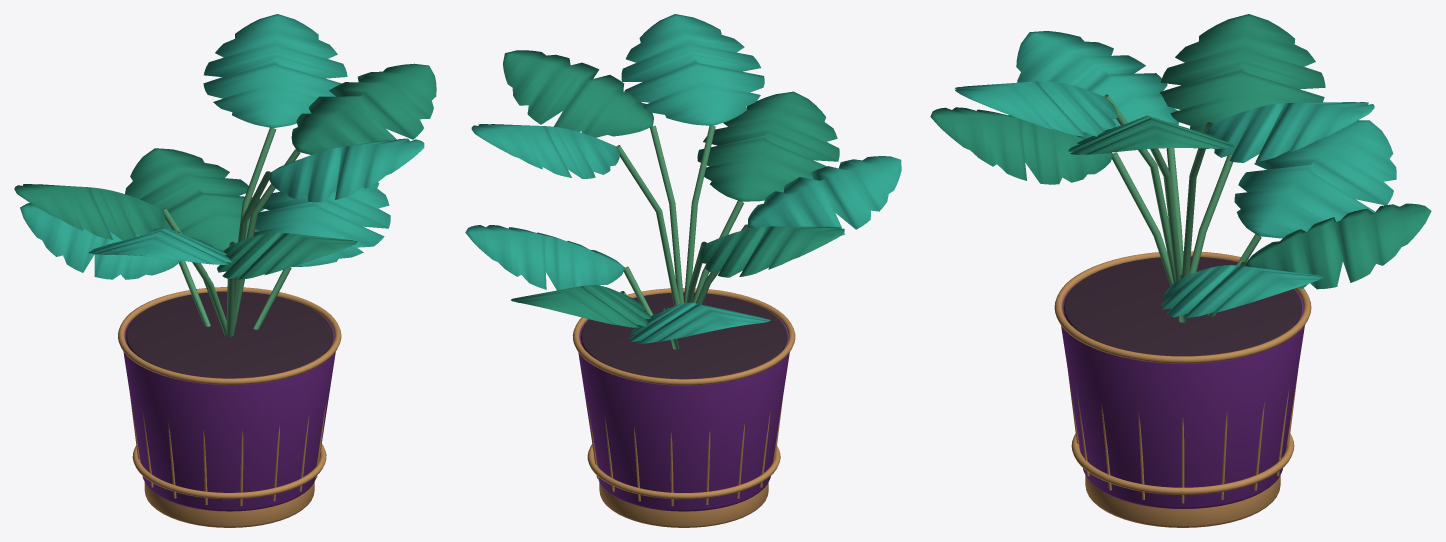
File: monstera.glb
3 views of the same model, side by side, from view 1: azimuth 30°, elevation 25°; view 2: azimuth 150°, elevation 25°; view 3: azimuth 270°, elevation 25° (orthographic). The views are drawn at different scales.
Visible parts, largest first — view 1: Fluted plum planter, Soil, Split monstera leaf.008, Split monstera leaf.005, Split monstera leaf.003, Split monstera leaf, Split monstera leaf.002, Split monstera leaf.001, Split monstera leaf.006, Split monstera leaf.007, Planter rim, Planter foot (+8 smaller); view 2: Fluted plum planter, Split monstera leaf.002, Split monstera leaf.007, Soil, Split monstera leaf.005, Split monstera leaf.004, Split monstera leaf, Split monstera leaf.008, Split monstera leaf.001, Split monstera leaf.003, Split monstera leaf.006, Planter foot (+5 smaller); view 3: Fluted plum planter, Soil, Split monstera leaf.006, Split monstera leaf.001, Split monstera leaf.003, Split monstera leaf.004, Split monstera leaf.007, Split monstera leaf.008, Split monstera leaf.002, Split monstera leaf, Planter foot, Planter rim (+8 smaller).
Part boxes in pixels (box(x1,y1,x2,y2)): Fluted plum planter: box(123, 315, 335, 511); Soil: box(126, 291, 333, 378); Split monstera leaf.008: box(203, 14, 347, 128); Split monstera leaf.005: box(291, 63, 436, 154); Split monstera leaf.003: box(125, 148, 264, 250); Split monstera leaf: box(250, 182, 390, 266); Split monstera leaf.002: box(268, 138, 424, 202); Split monstera leaf.001: box(14, 184, 164, 240); Split monstera leaf.006: box(20, 203, 181, 279); Split monstera leaf.007: box(217, 232, 357, 279); Planter rim: box(118, 287, 341, 384); Planter foot: box(144, 482, 314, 527); Fluted plum planter: box(578, 317, 789, 511); Split monstera leaf.002: box(621, 14, 764, 125); Split monstera leaf.007: box(697, 91, 839, 201); Soil: box(580, 292, 787, 379); Split monstera leaf.005: box(503, 50, 653, 137); Split monstera leaf.004: box(747, 156, 901, 235); Split monstera leaf: box(465, 225, 625, 290); Split monstera leaf.008: box(471, 124, 619, 178); Split monstera leaf.001: box(699, 226, 844, 277); Split monstera leaf.003: box(511, 285, 650, 327); Split monstera leaf.006: box(629, 302, 770, 343); Planter foot: box(599, 482, 768, 527); Fluted plum planter: box(1061, 283, 1304, 508); Soil: box(1063, 256, 1301, 356); Split monstera leaf.006: box(1234, 120, 1396, 238); Split monstera leaf.001: box(1159, 14, 1325, 132); Split monstera leaf.003: box(1245, 203, 1431, 289); Split monstera leaf.004: box(1016, 31, 1179, 138); Split monstera leaf.007: box(930, 107, 1113, 184); Split monstera leaf.008: box(1205, 102, 1374, 162); Split monstera leaf.002: box(955, 81, 1117, 136); Split monstera leaf: box(1161, 265, 1323, 317); Planter foot: box(1085, 475, 1280, 527); Planter rim: box(1054, 251, 1311, 363).
Bounding box in the file's own units: 1.22 × 1.21 × 1.23.
